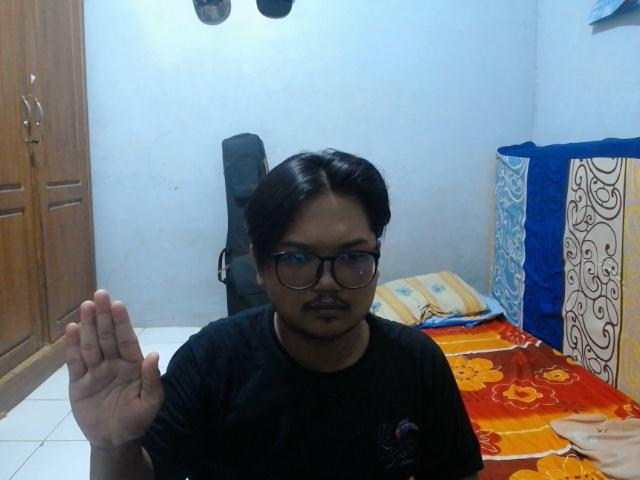Release: (61, 287, 167, 448)
